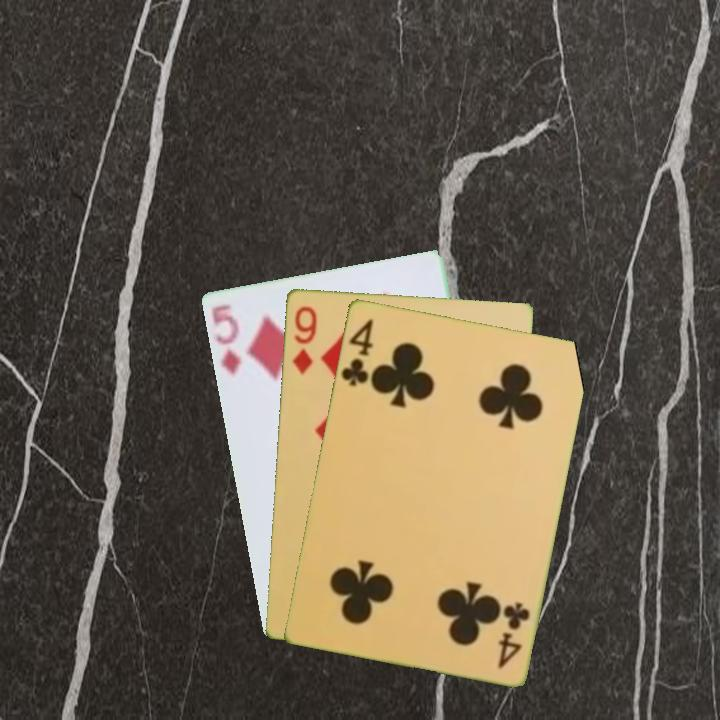4c: (337, 315, 376, 389), (494, 598, 533, 671)
5d: (208, 300, 244, 377)
9d: (288, 302, 320, 377)
